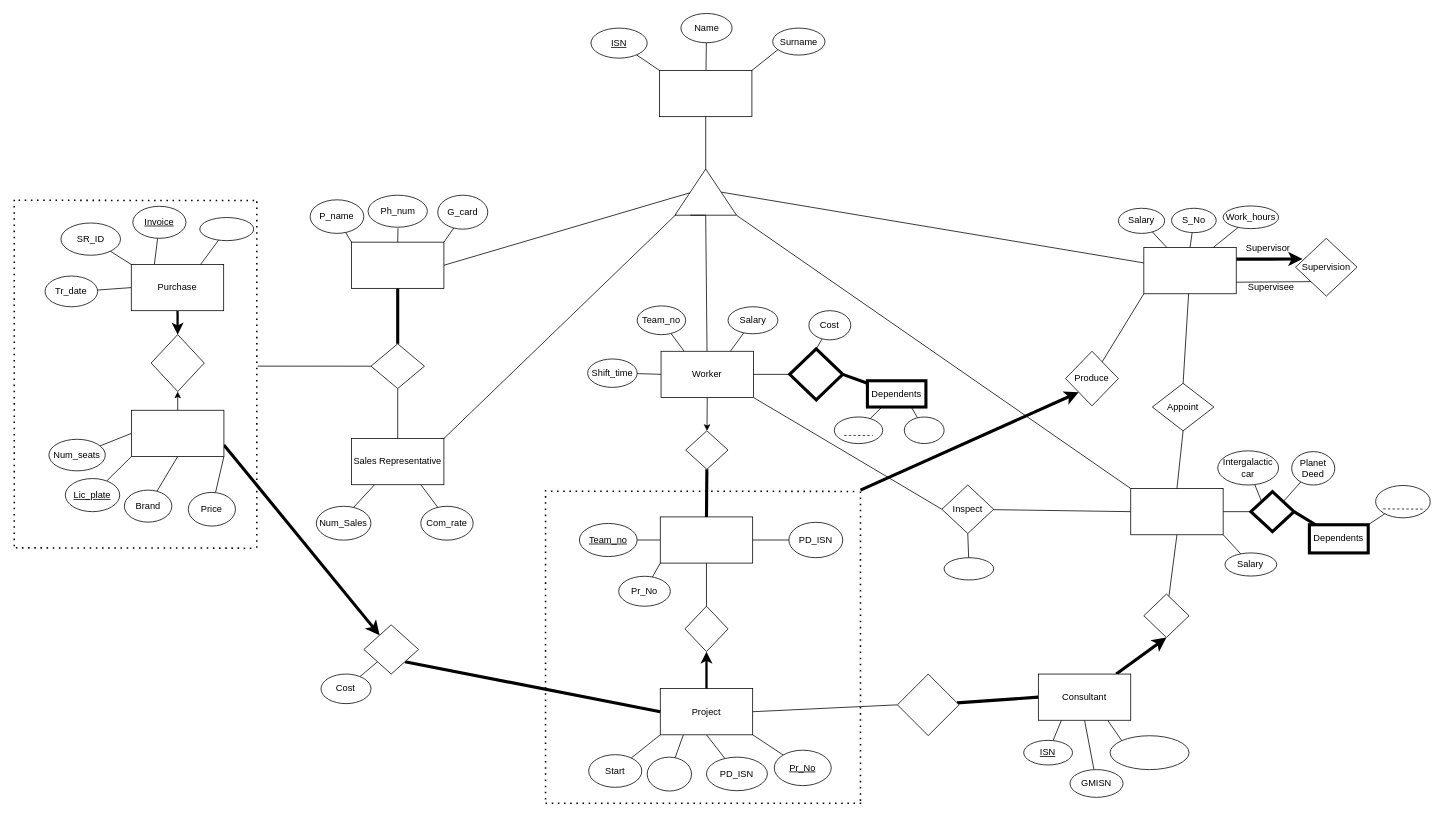
Image size: 1444x819. Some labels were removed from this diagram. The centre of each missing label's shape, as x and y in pixels:
"Age" goes at (x=924, y=430).
"Bonus" goes at (x=1272, y=511).
"Company_name" goes at (x=1149, y=752).
"Consist_of" goes at (x=177, y=363).
"Consult" goes at (x=928, y=704).
"Creates" goes at (x=391, y=649).
"Customer" goes at (x=397, y=264).
"End" goes at (x=669, y=773).
"Experience" goes at (x=1402, y=501).
"General Manager" goes at (x=1176, y=511).
"Hire" goes at (x=1166, y=615).
"IS_A" goes at (x=705, y=191).
"Parts of" goes at (x=706, y=449).
"Perform" goes at (x=706, y=628).
"Plate" goes at (x=226, y=229).
"Pname" goes at (x=858, y=430).
"Policy" goes at (x=816, y=374).
"Project Director" goes at (x=1189, y=270).
"Rating" goes at (x=968, y=568).
"Sell" goes at (x=397, y=366).
"Spacecraft" goes at (x=177, y=432).
"Team" goes at (x=706, y=539).
"USER" goes at (x=705, y=93).
